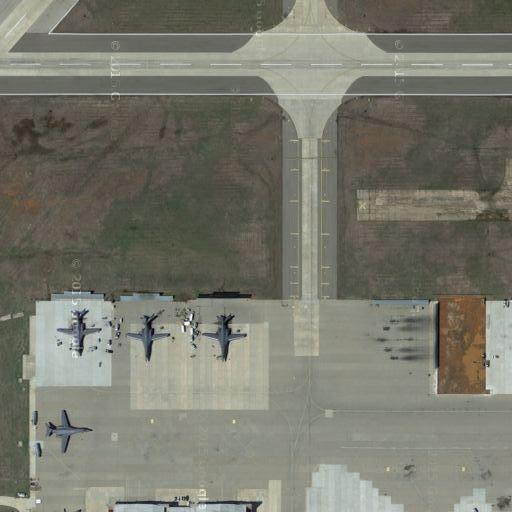B-1B: (43, 404, 94, 460), (203, 310, 248, 364), (127, 308, 171, 362), (58, 305, 101, 360)
